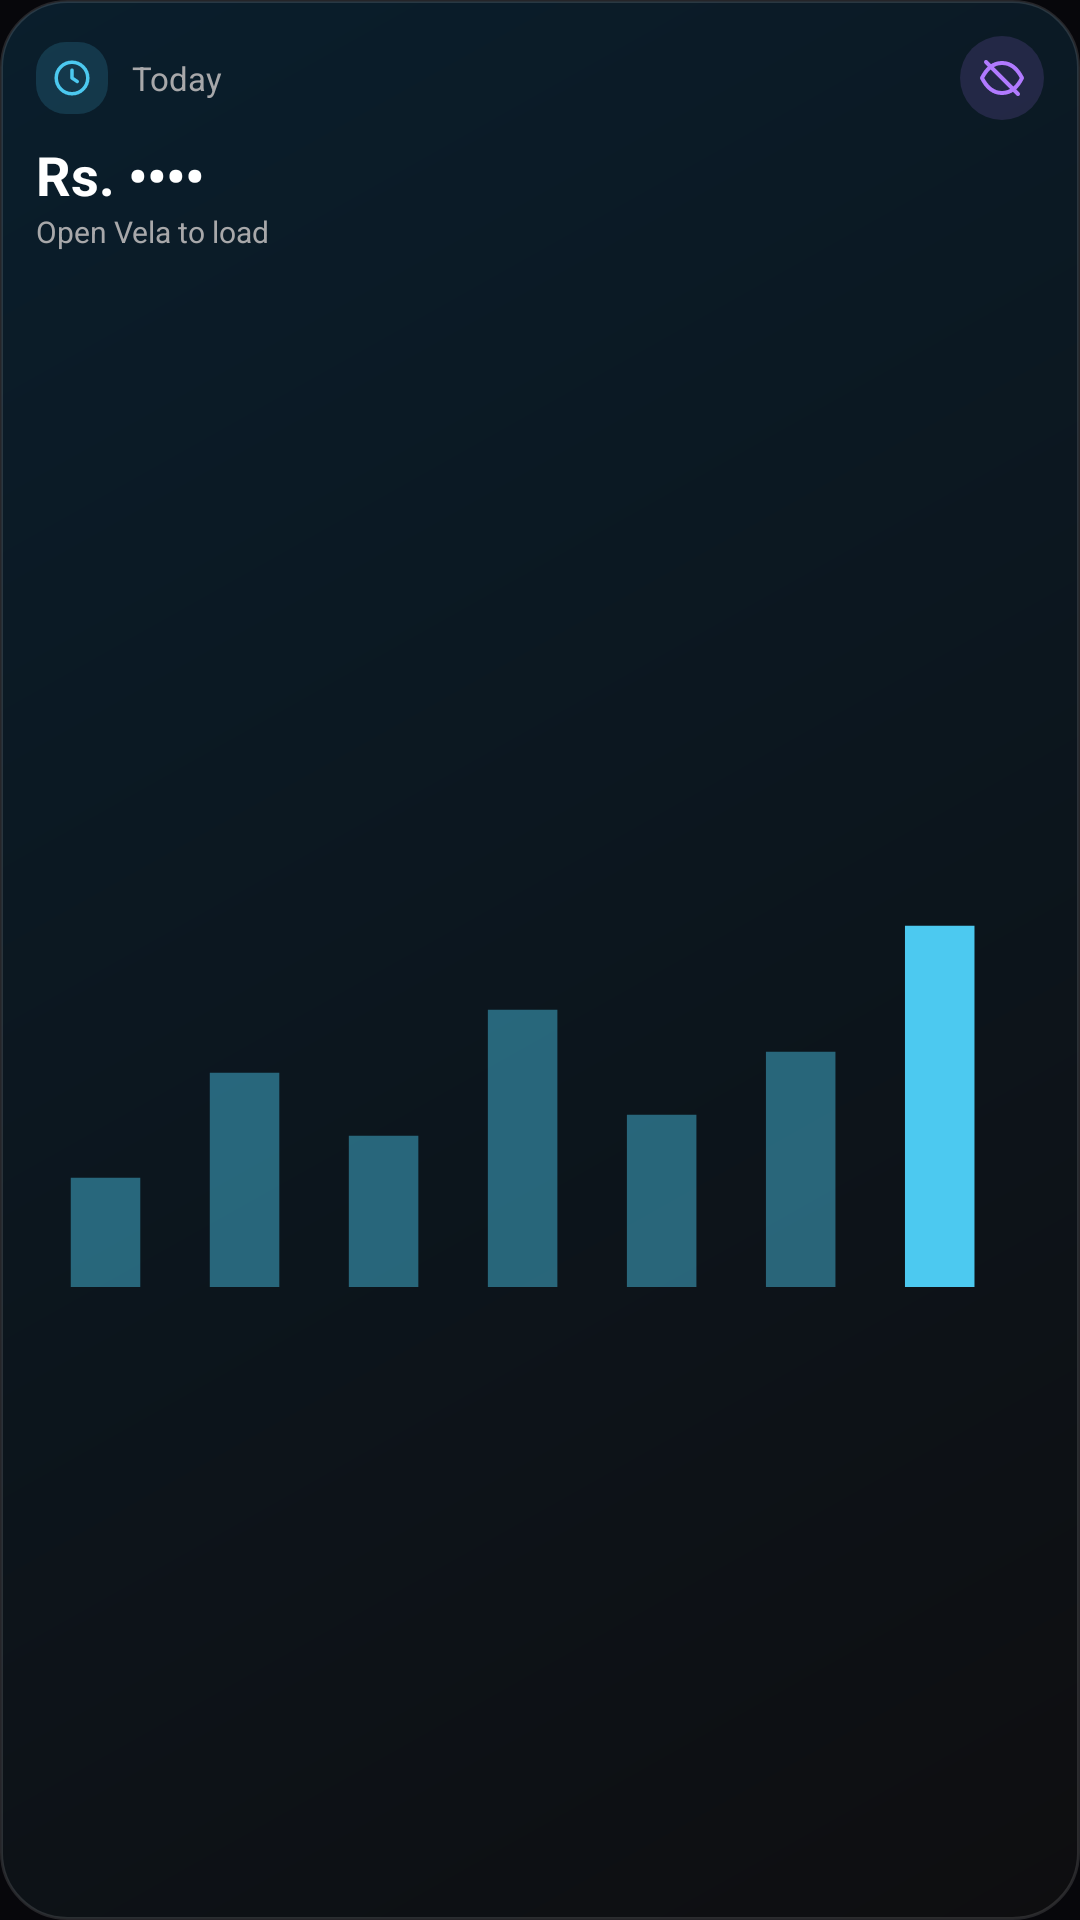

Screen size 1080px x 1920px. Icon name, then its center in pixels as (x,y):
recent: (72,78)
Show amounts: (1002,78)
